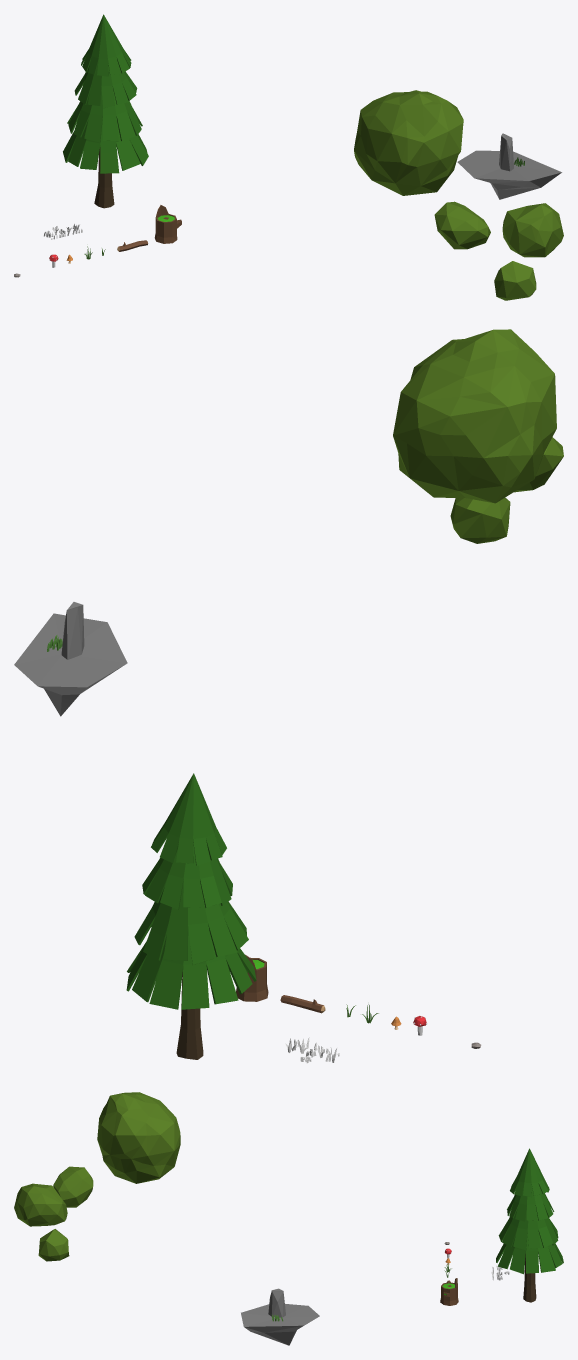
File: Stone magic p1_Complete.FBX
3 views of the same model, one above another, from view 1: azimuth 30°, elevation 25°; view 2: azimuth 150°, elevation 25°; view 3: azimuth 270°, elevation 25° (orthographic). The views are drawn at different scales.
Visible parts, largest first — view 1: Tree1.004, Tree2, Rock1, Tree1.001, Tree1.003, Tree1.002, Stump1, Rock3; view 2: Tree1.004, Tree2, Rock1, Tree1.002, Rock3, Tree1.003; view 3: Tree1.004, Tree2, Rock1, Tree1.001, Tree1.003, Tree1.002, Rock3, Stump1.
Part boxes in pixels (bbox=[...]): Tree1.004: bbox=[354, 90, 463, 195]; Tree2: bbox=[63, 14, 148, 208]; Rock1: bbox=[457, 150, 561, 199]; Tree1.001: bbox=[502, 203, 563, 257]; Tree1.003: bbox=[434, 201, 490, 249]; Tree1.002: bbox=[494, 261, 536, 300]; Stump1: bbox=[154, 205, 181, 243]; Rock3: bbox=[499, 133, 513, 171]; Tree1.004: bbox=[393, 329, 556, 503]; Tree2: bbox=[126, 773, 256, 1059]; Rock1: bbox=[14, 613, 127, 716]; Tree1.002: bbox=[450, 497, 510, 543]; Rock3: bbox=[61, 602, 84, 659]; Tree1.003: bbox=[514, 437, 563, 492]; Tree1.004: bbox=[97, 1092, 180, 1183]; Tree2: bbox=[496, 1148, 563, 1302]; Rock1: bbox=[241, 1304, 319, 1345]; Tree1.001: bbox=[14, 1183, 67, 1226]; Tree1.003: bbox=[53, 1166, 93, 1207]; Tree1.002: bbox=[38, 1229, 69, 1261]; Rock3: bbox=[268, 1288, 285, 1317]; Stump1: bbox=[440, 1278, 458, 1305].
Bounding box in the file's own units: 4110 × 2704 × 5950.
